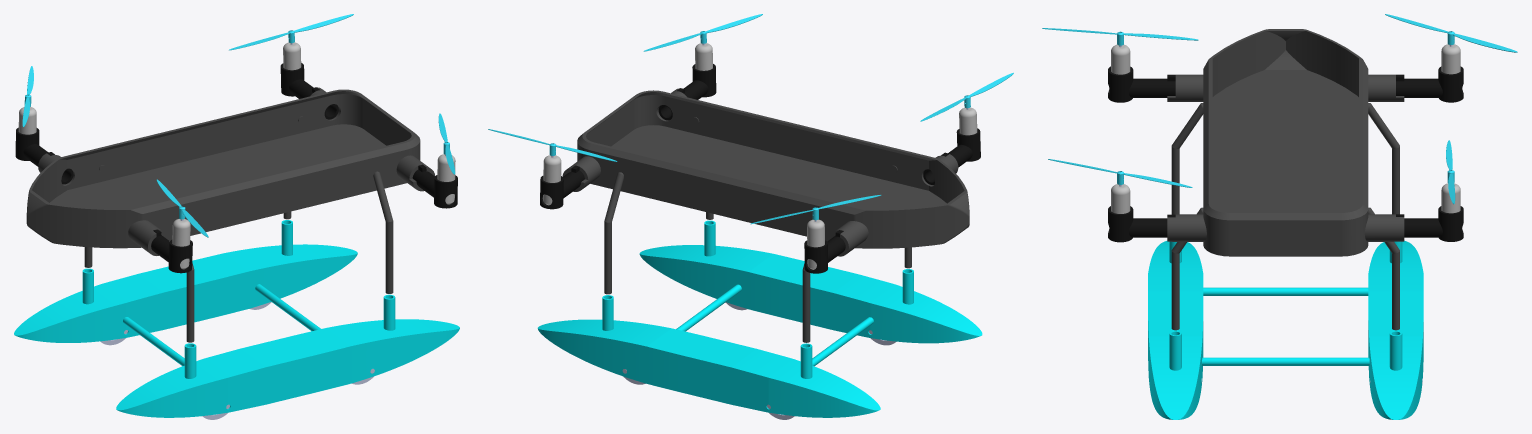
The picture shows the model from 3 angles, left to right: view 1: azimuth 30°, elevation 25°; view 2: azimuth 150°, elevation 25°; view 3: azimuth 270°, elevation 25°; orthographic projection. The views are drawn at different scales.
Visible parts, largest first — view 1: main body 2-1_8, Part4-1_26, arm2-4_11, arm2-1_7, arm2-3_10, arm2-2_2, Part5-2_4, Part8-1_9, Part5-5_17, Part5-3_6, Part8-3_14; view 2: main body 2-1_8, Part4-1_26, arm2-4_11, arm2-1_7, arm2-2_2, arm2-3_10, Part5-3_6, Part5-1_5, Part8-5_15, Part8-3_14, Part5-2_4; view 3: main body 2-1_8, Part4-1_26, arm2-2_2, arm2-3_10, arm2-4_11, arm2-1_7, Part8-2_13, Part5-1_5, Part5-2_4, Part5-5_17, Part8-3_14, Part8-5_15 (+1 smaller).
Part boxes in pixels (<box>): main body 2-1_8: <box>26,87,434,342</box>; Part4-1_26: <box>14,220,459,417</box>; arm2-4_11: <box>412,164,457,208</box>; arm2-1_7: <box>280,63,338,119</box>; arm2-3_10: <box>151,229,192,273</box>; arm2-2_2: <box>15,127,73,184</box>; Part5-2_4: <box>172,219,190,269</box>; Part8-1_9: <box>229,14,353,50</box>; Part5-5_17: <box>437,154,455,204</box>; Part5-3_6: <box>283,42,301,70</box>; Part8-3_14: <box>156,179,208,237</box>; main body 2-1_8: <box>562,88,969,342</box>; Part4-1_26: <box>537,220,982,417</box>; arm2-4_11: <box>658,64,716,120</box>; arm2-1_7: <box>540,165,584,209</box>; arm2-2_2: <box>804,230,845,273</box>; arm2-3_10: <box>923,128,980,184</box>; Part5-3_6: <box>542,155,561,205</box>; Part5-1_5: <box>807,219,824,269</box>; Part8-5_15: <box>643,14,762,51</box>; Part8-3_14: <box>920,72,1013,121</box>; Part5-2_4: <box>959,107,977,135</box>; main body 2-1_8: <box>1167,29,1404,330</box>; Part4-1_26: <box>1148,240,1423,419</box>; arm2-2_2: <box>1396,66,1463,102</box>; arm2-3_10: <box>1108,66,1175,102</box>; arm2-4_11: <box>1108,206,1175,242</box>; arm2-1_7: <box>1396,206,1463,241</box>; Part8-2_13: <box>1385,14,1517,52</box>; Part5-1_5: <box>1441,44,1460,74</box>; Part5-2_4: <box>1111,44,1130,74</box>; Part5-5_17: <box>1111,184,1130,213</box>; Part8-3_14: <box>1042,28,1198,45</box>; Part8-5_15: <box>1048,159,1192,187</box>.
Size of the model in its own units: 0.1831 by 0.1059 by 0.1727.
